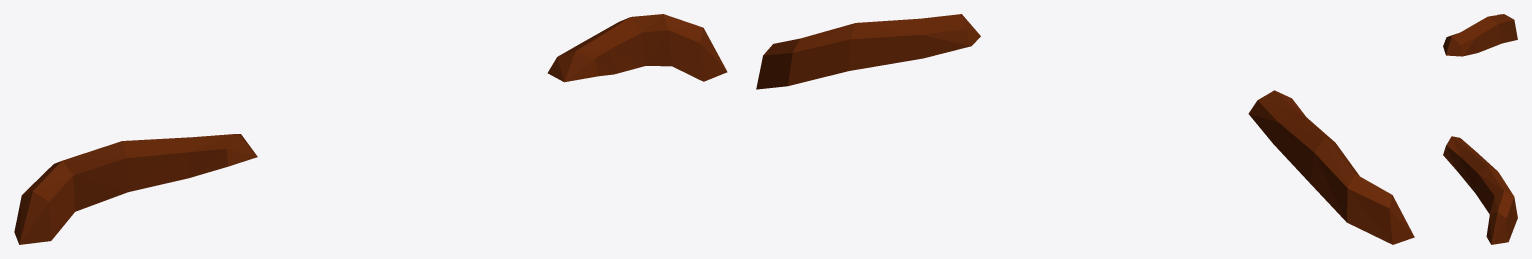
The model's file is Eyes 06.FBX.
3 views of the same model, side by side, from view 1: azimuth 30°, elevation 25°; view 2: azimuth 150°, elevation 25°; view 3: azimuth 270°, elevation 25° (orthographic). The views are drawn at different scales.
Parts seen in each view (by area): view 1: Eyes 06; view 2: Eyes 06; view 3: Eyes 06.
Boxes of the visible parts, x1,y1,x2,y2 form: Eyes 06: (14, 14, 727, 244); Eyes 06: (756, 14, 1414, 244); Eyes 06: (1443, 14, 1517, 244).
Bounding box in the file's own units: 19.09 × 2.9 × 2.32.
